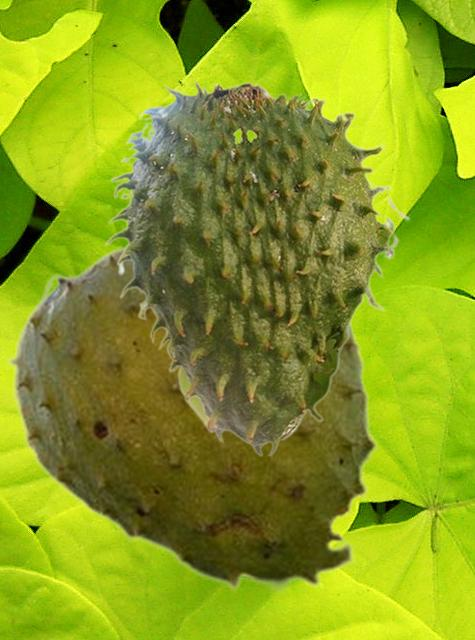guyabano: (5, 242, 378, 595), (104, 80, 410, 456)
